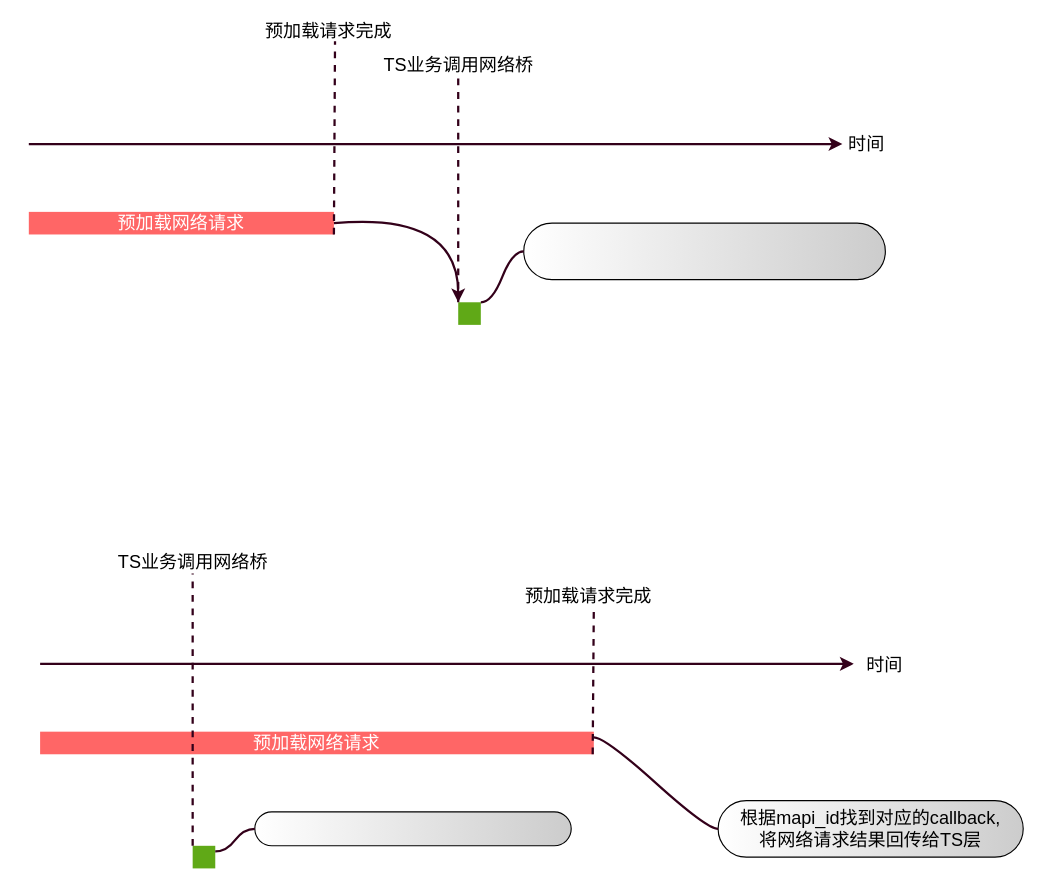
Image size: 1043x887. Some labels were removed from this diagram. Each missing label, with the centre of its shape:
根据mapi_id保存网络桥的callback: point (412, 828)
根据mapi_id找到对应的网络请求结果， 将结果通过callback回传给TS层: point (704, 251)
